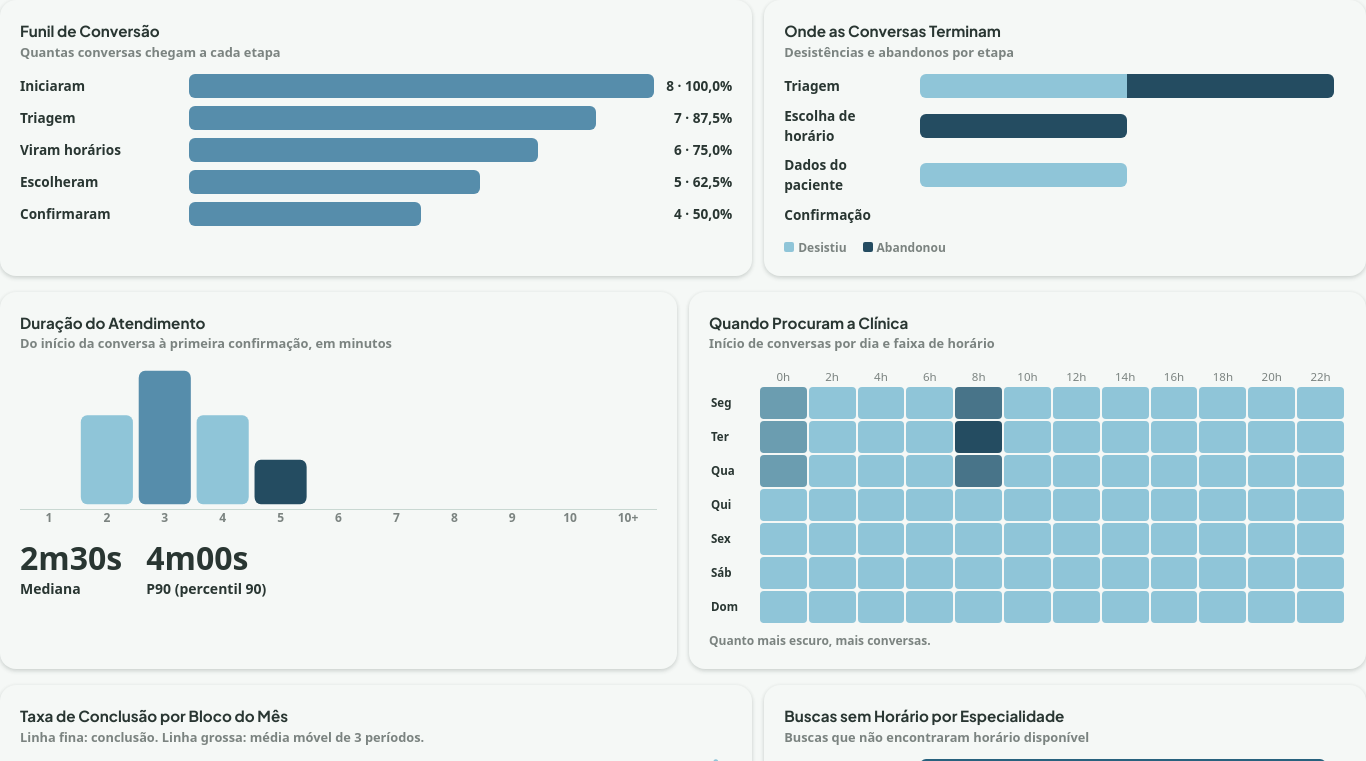
Test: mostra o horário e a contagem da célula apontada ou focada, inclusive zero
Earlier steps of the test are not shown.
Later steps or results of the test are not shown.
Click the cell named "Ter, 8h–10h: 3": x=979, y=437 [955,421,1002,453]
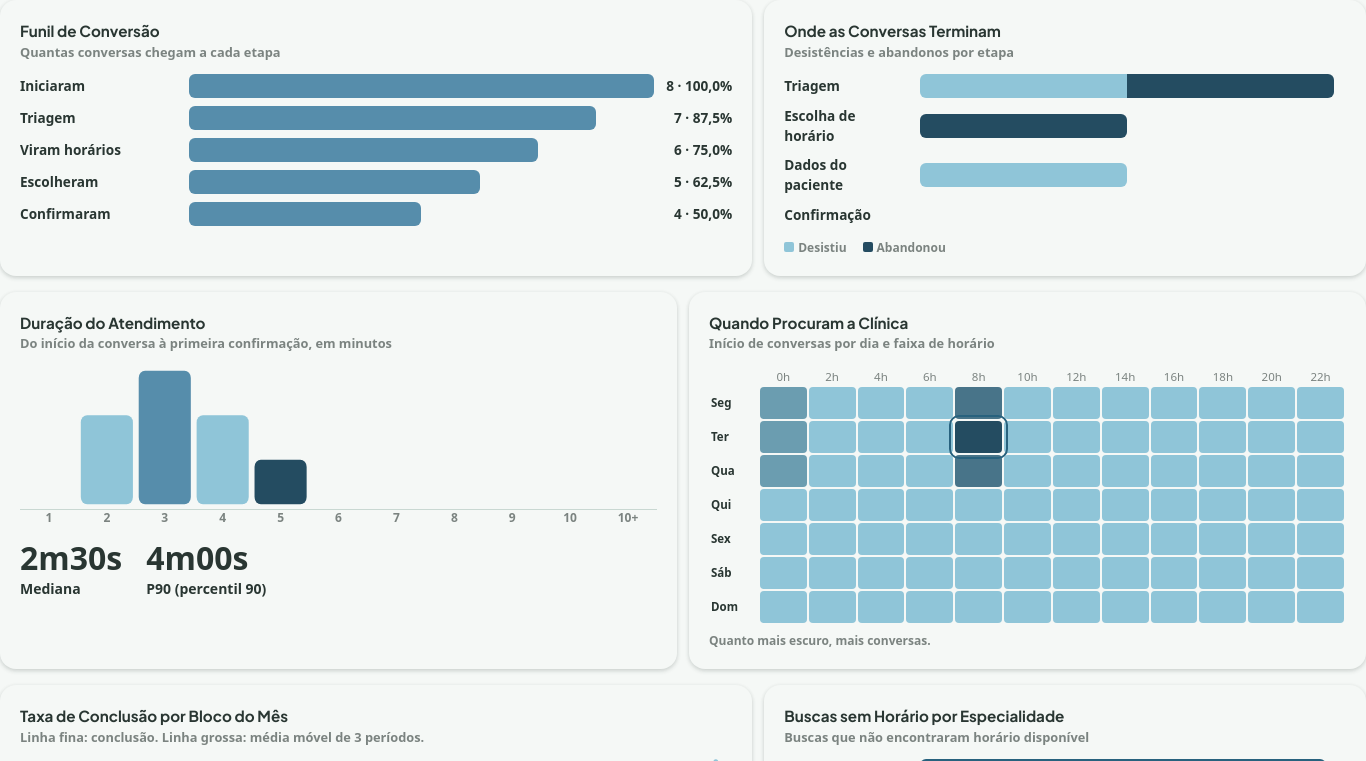
Press Tab
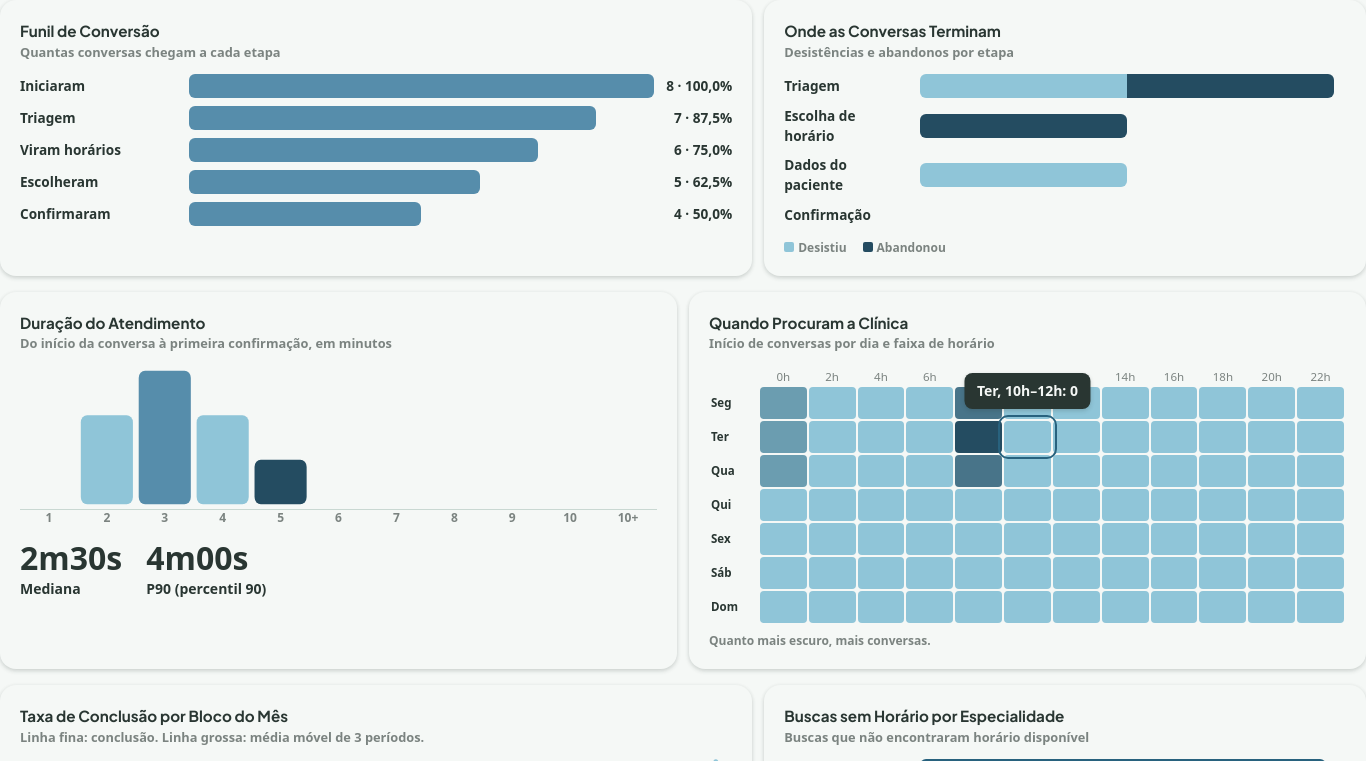
Expected: the tooltip reads "Ter, 10h–12h: 0", [977,381,1078,400]
